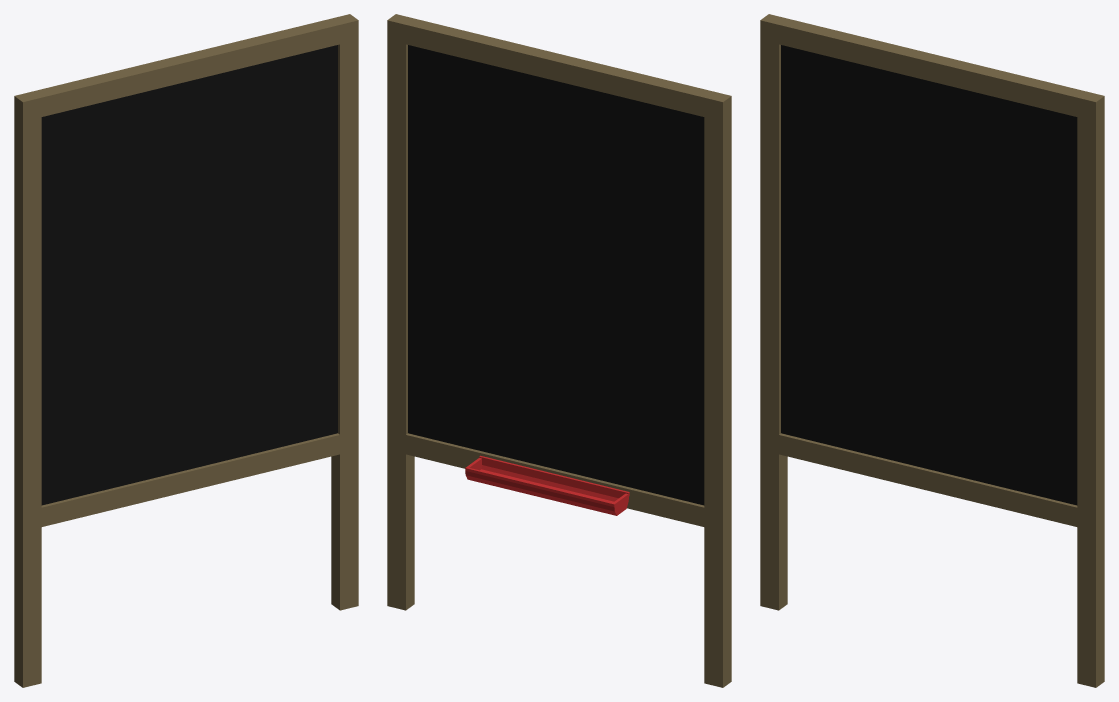
Rendered from board_1.fbx.
3 views of the same model, side by side, from view 1: azimuth 30°, elevation 25°; view 2: azimuth 150°, elevation 25°; view 3: azimuth 330°, elevation 25° (orthographic).
Visible parts, largest first — view 1: Board; view 2: Board, Holder; view 3: Board.
Part boxes in pixels (<box>): Board: <box>14,14,358,687</box>; Board: <box>387,14,731,687</box>; Holder: <box>465,455,629,515</box>; Board: <box>760,14,1104,687</box>.
Bounding box in the file's own units: 9000 × 15000 × 1114.
